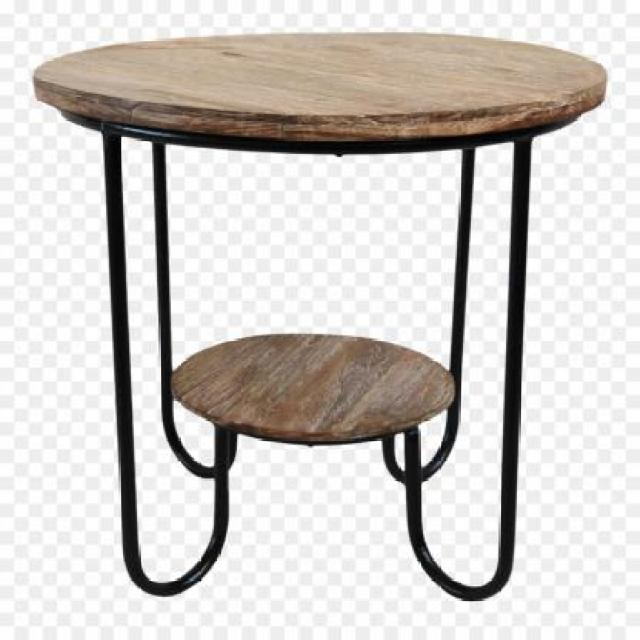table: (31, 32, 607, 594)
